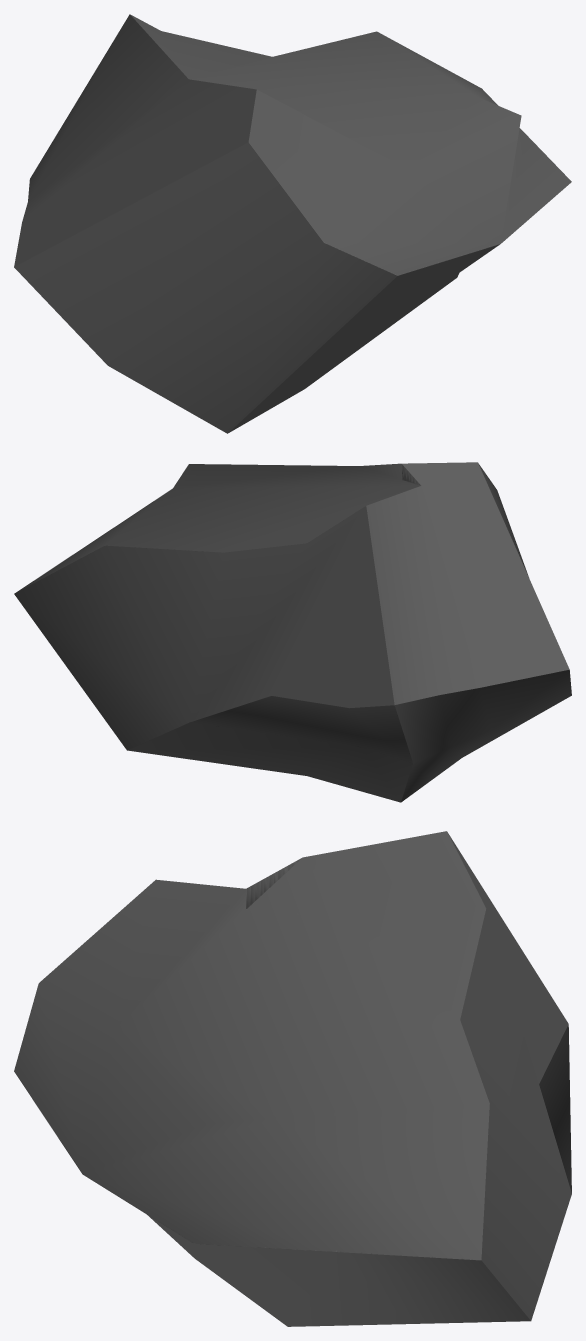
The model's file is FishRock.fbx.
3 views of the same model, one above another, from view 1: azimuth 30°, elevation 25°; view 2: azimuth 150°, elevation 25°; view 3: azimuth 270°, elevation 25° (orthographic). The views are drawn at different scales.
Visible parts, largest first — view 1: pPlatonic1; view 2: pPlatonic1; view 3: pPlatonic1.
Part boxes in pixels (x1,y1,x2,y2): pPlatonic1: [14, 14, 571, 433]; pPlatonic1: [14, 462, 571, 802]; pPlatonic1: [14, 831, 571, 1326].
Size of the model in its own units: 2.51 by 1.42 by 1.87.
1 material, 1 textured.
